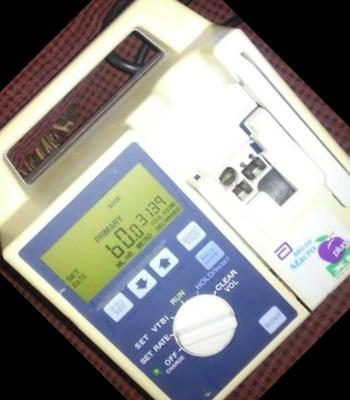plumxl1: (4, 29, 348, 394)
